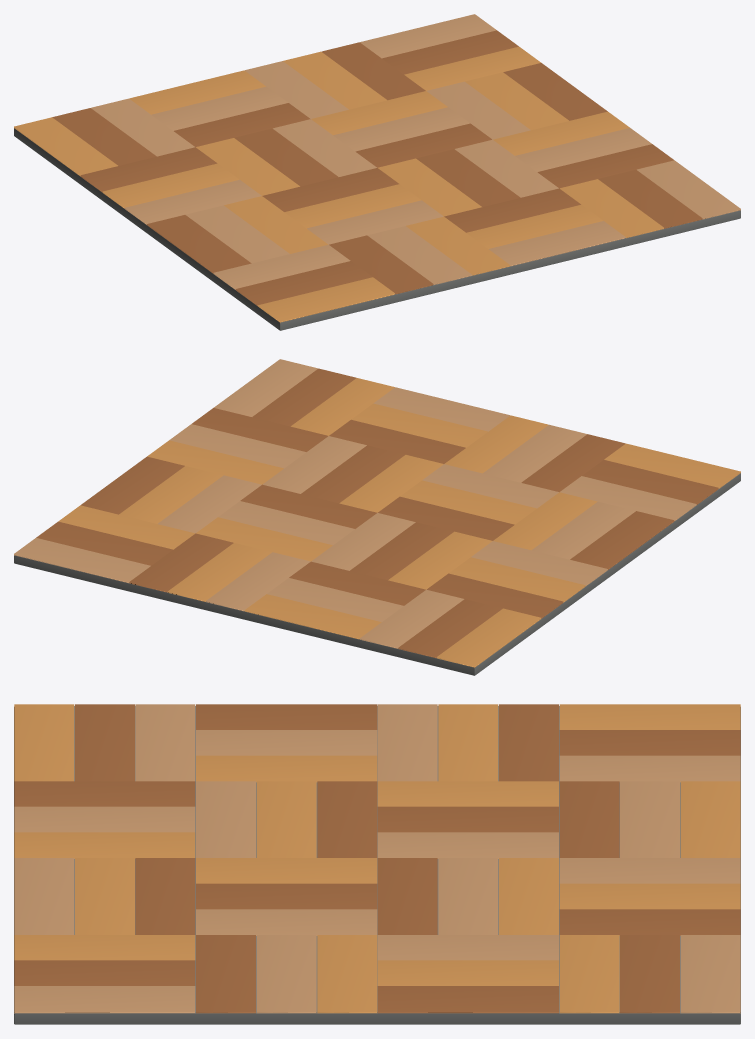
Rendered from ClassroomFloor.fbx.
3 renders of one model, top to bottom at view 1: azimuth 30°, elevation 25°; view 2: azimuth 150°, elevation 25°; view 3: azimuth 270°, elevation 25°, orthographic. The views are drawn at different scales.
Visible parts, largest first — view 1: Honey beech, Maple, Amber teak, Grey grout; view 2: Honey beech, Maple, Amber teak, Grey grout; view 3: Maple, Amber teak, Honey beech, Grey grout.
Boxes of the visible parts, x1,y1,x2,y2 form: Honey beech: [14, 46, 663, 322]; Maple: [91, 14, 740, 289]; Amber teak: [52, 30, 702, 306]; Grey grout: [14, 128, 740, 330]; Honey beech: [58, 378, 740, 667]; Maple: [14, 359, 696, 648]; Amber teak: [36, 368, 718, 658]; Grey grout: [14, 473, 740, 675]; Maple: [14, 704, 740, 1013]; Amber teak: [14, 704, 740, 1013]; Honey beech: [14, 704, 740, 1013]; Grey grout: [14, 706, 740, 1024].
Size of the model in its own units: 240 by 4.9 by 240.
